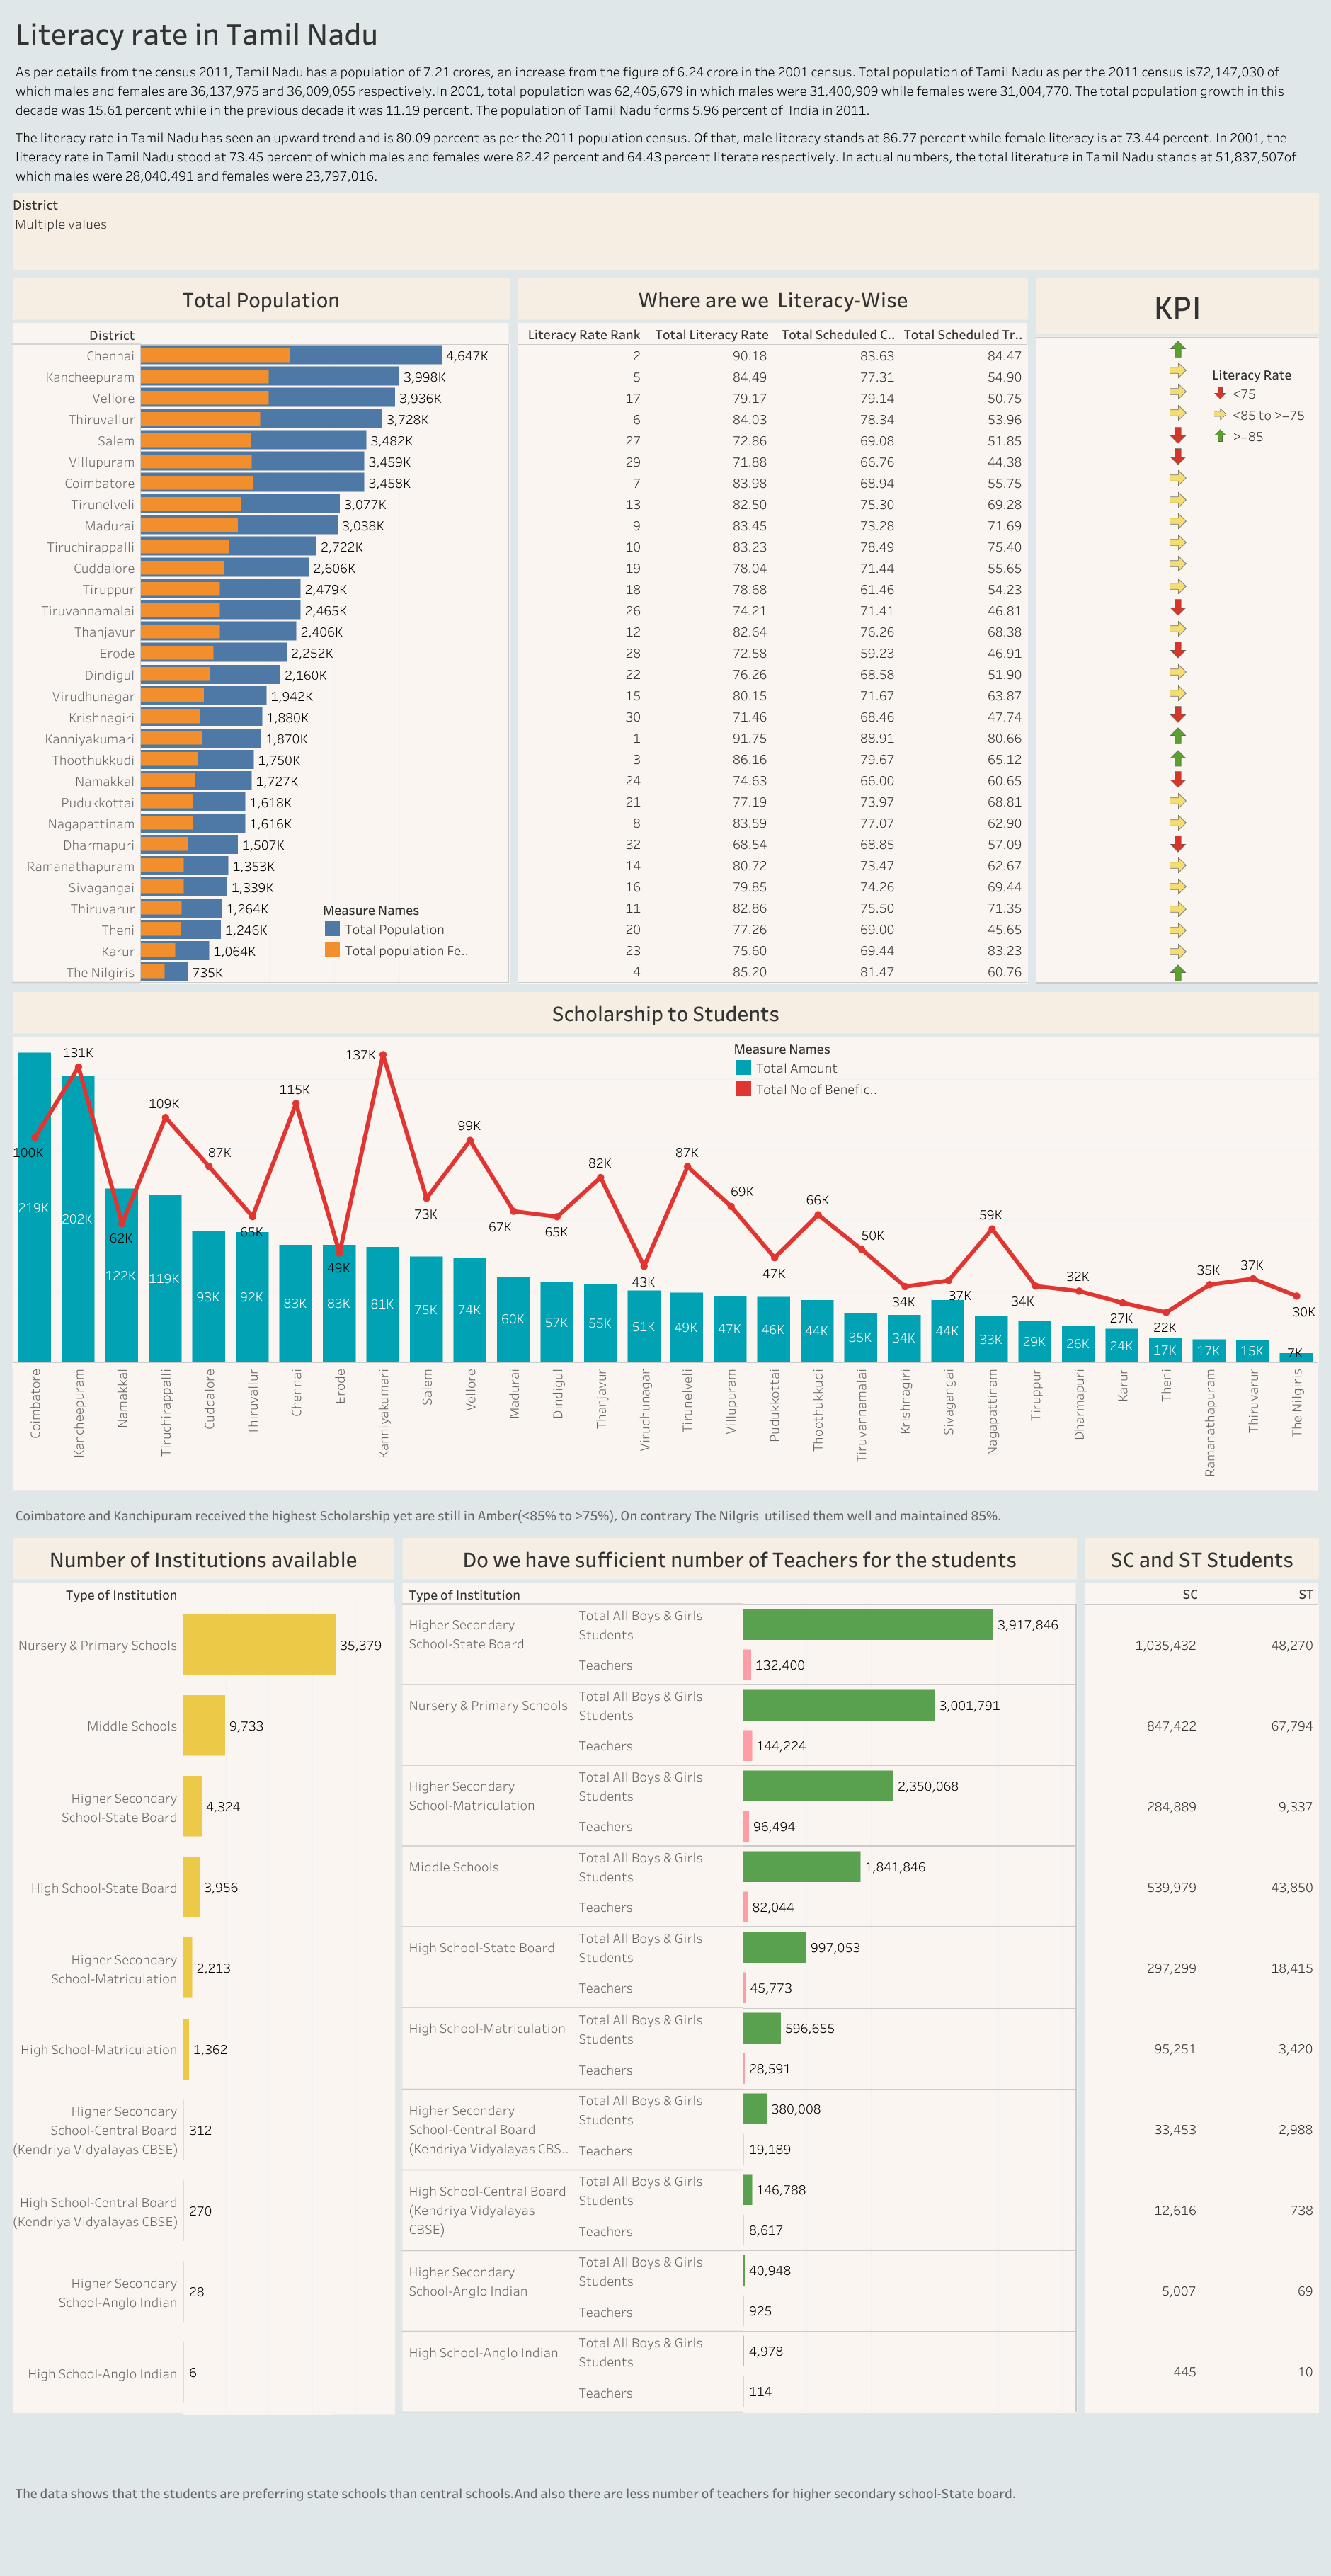

What the dashboard file says about the page in this screenshot:
{"tool":"tableau","page":{"name":"Literacy rate in Tamil Nadu","canvas":[1000,1000],"units":"permille","ordinal":0},"visuals":[{"type":"title","box":[7.6,3.3,984.9,19]},{"type":"text","box":[7.6,22.3,984.9,33]},{"type":"text","box":[7.6,55.2,984.9,25.6]},{"type":"filter","title":"Total Population","param":"[federated.01gttpt0edfnrh109nfd812l380s].[none:State/District:nk]","box":[7.6,80.8,984.9,33]},{"type":"worksheet","title":"Total Population","mark":"Bar","rows":["State/District"],"cols":["Total Population","Total population Female"],"box":[7.6,113.8,378.7,274.6]},{"type":"worksheet","title":"Where are we  Literacy-Wise","mark":"Automatic","rows":["State/District"],"box":[386.2,113.8,388.2,274.6]},{"type":"worksheet","title":"Shape","mark":"Shape","rows":["State/District"],"box":[774.5,113.8,218,274.6]},{"type":"legend","title":"Shape","param":"[federated.01gttpt0edfnrh109nfd812l380s].[none:Calculation_315814944528093190:nk","box":[907.3,140.6,79.5,35]},{"type":"legend","title":"Total Population","param":"[federated.01gttpt0edfnrh109nfd812l380s].[:Measure Names]","box":[241.5,348.3,115.4,28]},{"type":"worksheet","title":"Scholarship to students","mark":"Automatic","rows":["Total No of Beneficiaries (SC+ST+MBC/DNC+BC Christian+Muslim"],"cols":["District"],"box":[7.6,388.4,984.9,195.2]},{"type":"legend","title":"Scholarship to students","param":"[federated.1r7b5lo18fouf017ldfr10ztad0s].[:Measure Names]","box":[550,402.3,110.7,31.3]},{"type":"text","box":[7.6,583.6,984.9,14.8]},{"type":"worksheet","title":"No of institutions available","mark":"Automatic","rows":["Type of Institution"],"cols":["No. of Institutions"],"box":[7.6,598.4,292.3,339.8]},{"type":"worksheet","title":"No of teachers for students","mark":"Bar","rows":["Type of Institution"],"box":[299.9,598.4,510.9,339.8]},{"type":"worksheet","title":"SC and ST","mark":"Text","rows":["Type of Institution"],"box":[810.8,598.4,181.6,339.8]},{"type":"text","box":[7.6,938.2,984.9,58.5]}]}

Visuals, with their boxes on the dashboard's canvas, which has no fixed pixel size, in thousandths of its width and height (x1, y1, x2, y2). These are canvas units, not pixel positions in the 1331x2576 screenshot, which may show the page scaled, cropped or inside an application window:
title: <region>8, 3, 992, 22</region>
text: <region>8, 22, 992, 55</region>
text: <region>8, 55, 992, 81</region>
"Total Population" filter: <region>8, 81, 992, 114</region>
"Total Population" worksheet (Bar marks): <region>8, 114, 386, 388</region>
"Where are we  Literacy-Wise" worksheet: <region>386, 114, 774, 388</region>
"Shape" worksheet (Shape marks): <region>774, 114, 992, 388</region>
"Shape" legend: <region>907, 141, 987, 176</region>
"Total Population" legend: <region>242, 348, 357, 376</region>
"Scholarship to students" worksheet: <region>8, 388, 992, 584</region>
"Scholarship to students" legend: <region>550, 402, 661, 434</region>
text: <region>8, 584, 992, 598</region>
"No of institutions available" worksheet: <region>8, 598, 300, 938</region>
"No of teachers for students" worksheet (Bar marks): <region>300, 598, 811, 938</region>
"SC and ST" worksheet (Text marks): <region>811, 598, 992, 938</region>
text: <region>8, 938, 992, 997</region>
